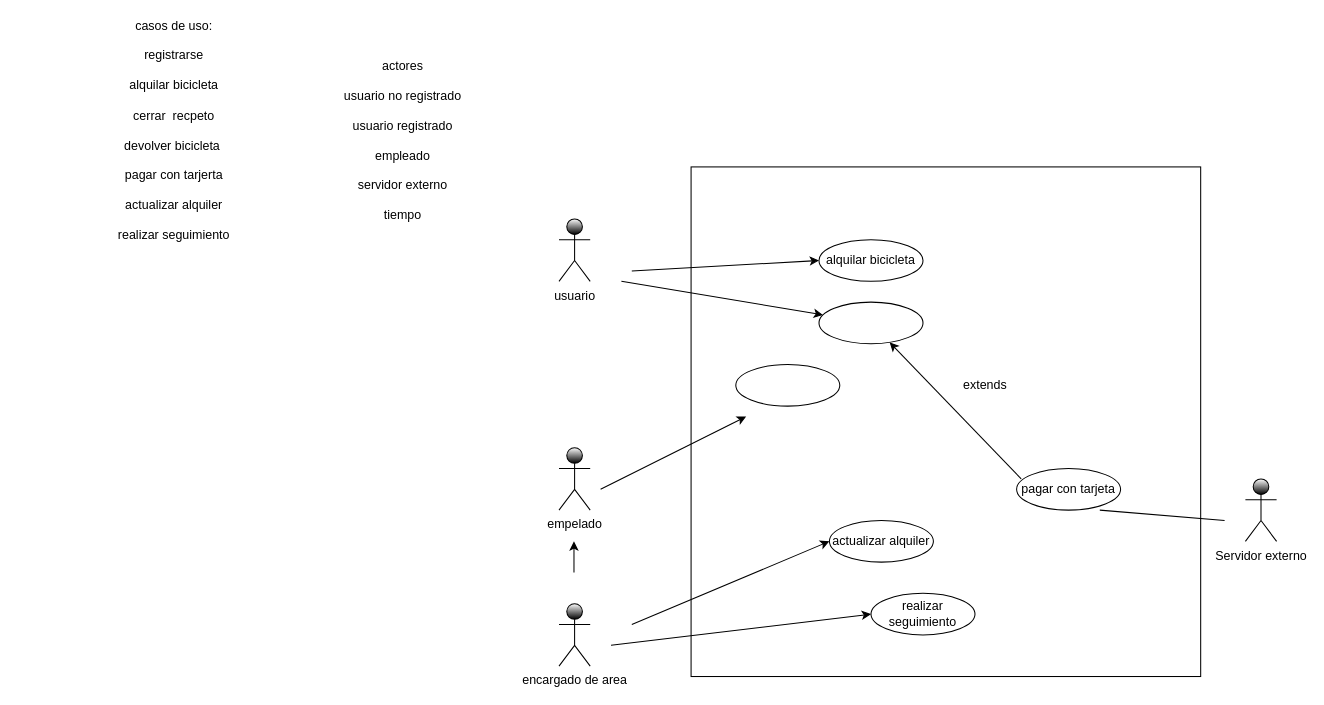
Image size: 1324x705. Some labels were removed from this diagram. The centre of each missing label's shape, as x and y in pixels:
devolver bicicleta: point 870,322
registrarse: point 787,384
